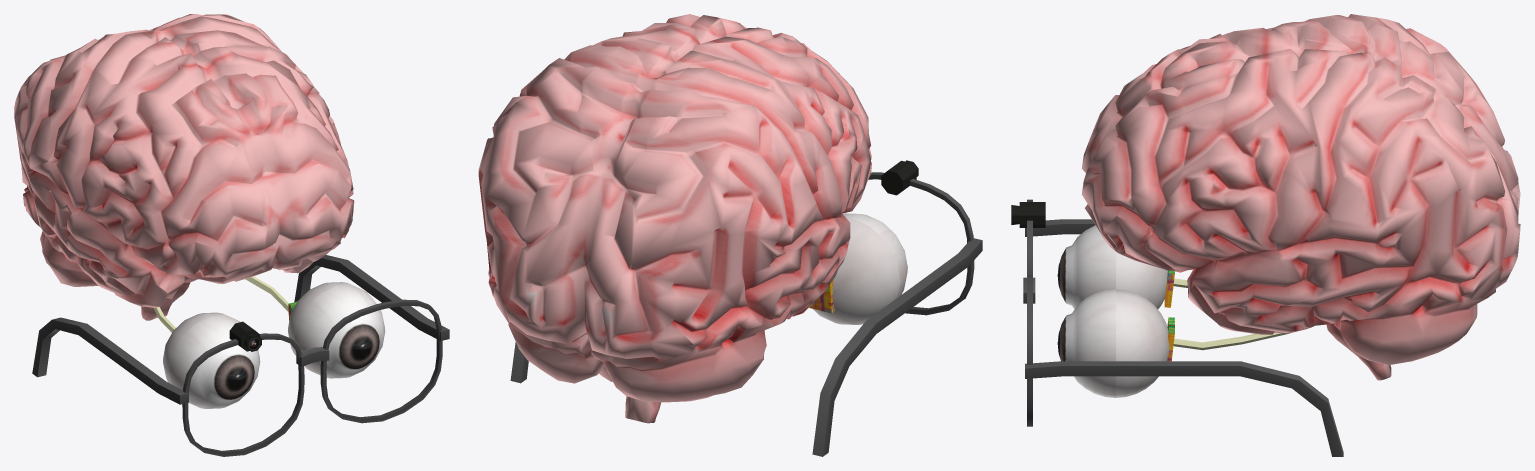
The model's file is bio_eye.dae.
3 renders of one model, left to right at view 1: azimuth 30°, elevation 25°; view 2: azimuth 150°, elevation 25°; view 3: azimuth 270°, elevation 25°, orthographic. The views are drawn at different scales.
Visible parts, largest first — view 1: polySurface5; view 2: polySurface5; view 3: polySurface5.
Part boxes in pixels (x1=…): polySurface5: x1=14, y1=14, x2=449, y2=456; polySurface5: x1=478, y1=14, x2=982, y2=456; polySurface5: x1=1011, y1=14, x2=1520, y2=456.
Bounding box in the file's own units: 5.39 × 5.79 × 7.77.
1 material, 1 textured.
